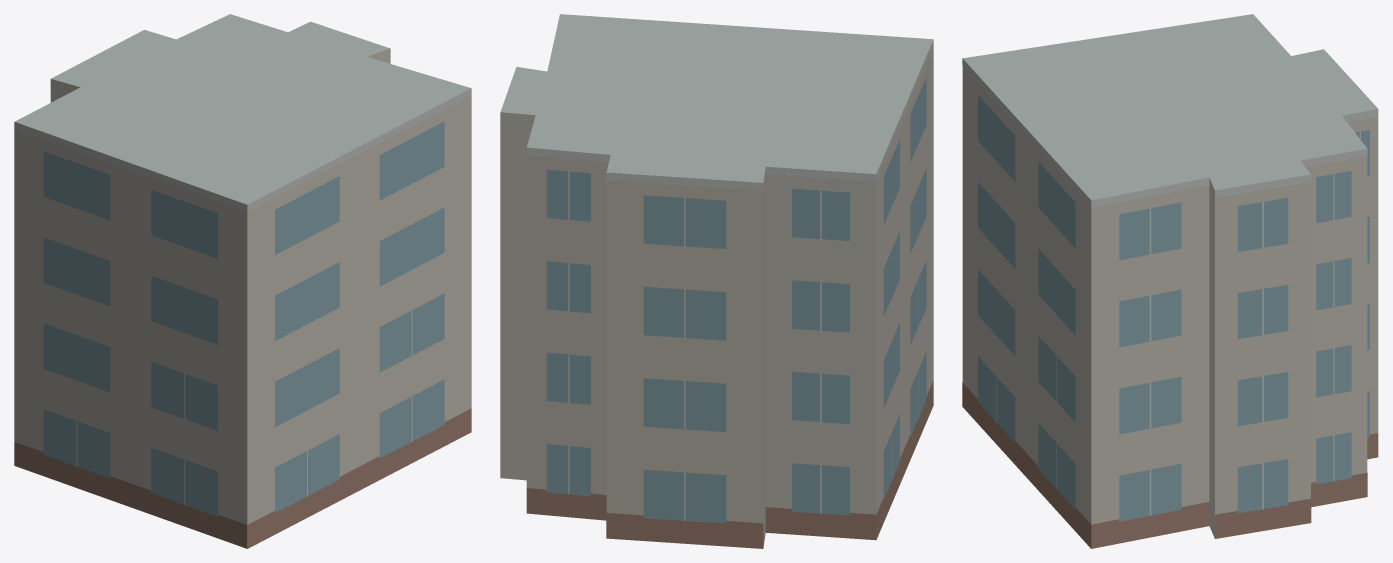
The model's file is survey-upis-32854448.glb.
3 renders of one model, left to right at view 1: azimuth 30°, elevation 25°; view 2: azimuth 150°, elevation 25°; view 3: azimuth 270°, elevation 25°, orthographic. The views are drawn at different scales.
Parts seen in each view (by area): view 1: survey-upis-32854448.tmp; view 2: survey-upis-32854448.tmp; view 3: survey-upis-32854448.tmp.
Boxes of the visible parts, bbox=[...] form: survey-upis-32854448.tmp: bbox=[14, 14, 471, 548]; survey-upis-32854448.tmp: bbox=[500, 14, 933, 548]; survey-upis-32854448.tmp: bbox=[962, 14, 1378, 548].
Size of the model in its own units: 13.15 by 11.45 by 12.39.
